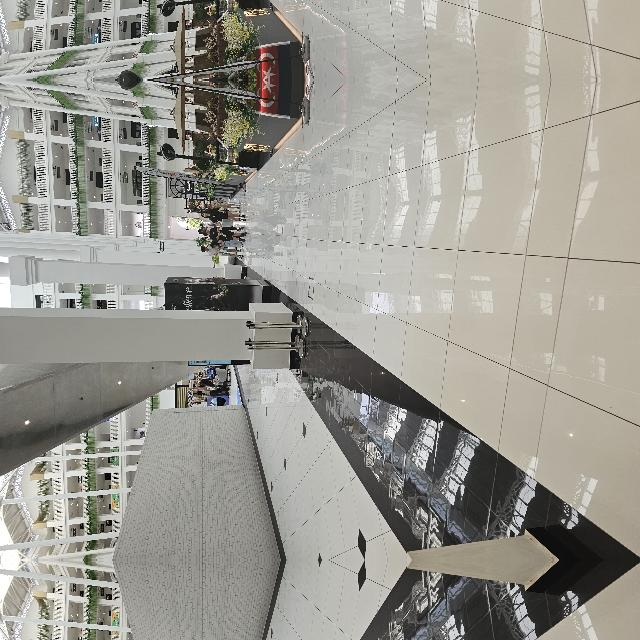obstacle: (0, 192, 156, 362), (390, 276, 480, 388), (252, 240, 292, 356), (202, 324, 224, 386), (222, 326, 244, 388)
person: (318, 282, 334, 326), (337, 282, 351, 326), (301, 281, 315, 323), (161, 272, 173, 310), (349, 284, 361, 320)
